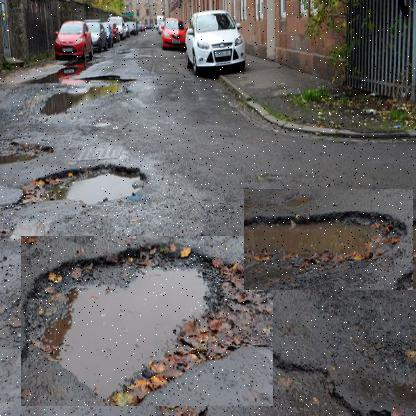pothole_water: (21, 236, 274, 407), (244, 189, 414, 291), (13, 143, 147, 221)
